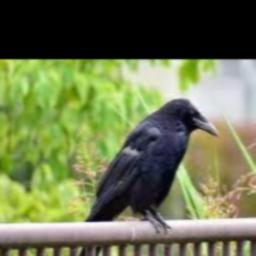Crow: (77, 97, 219, 256)
